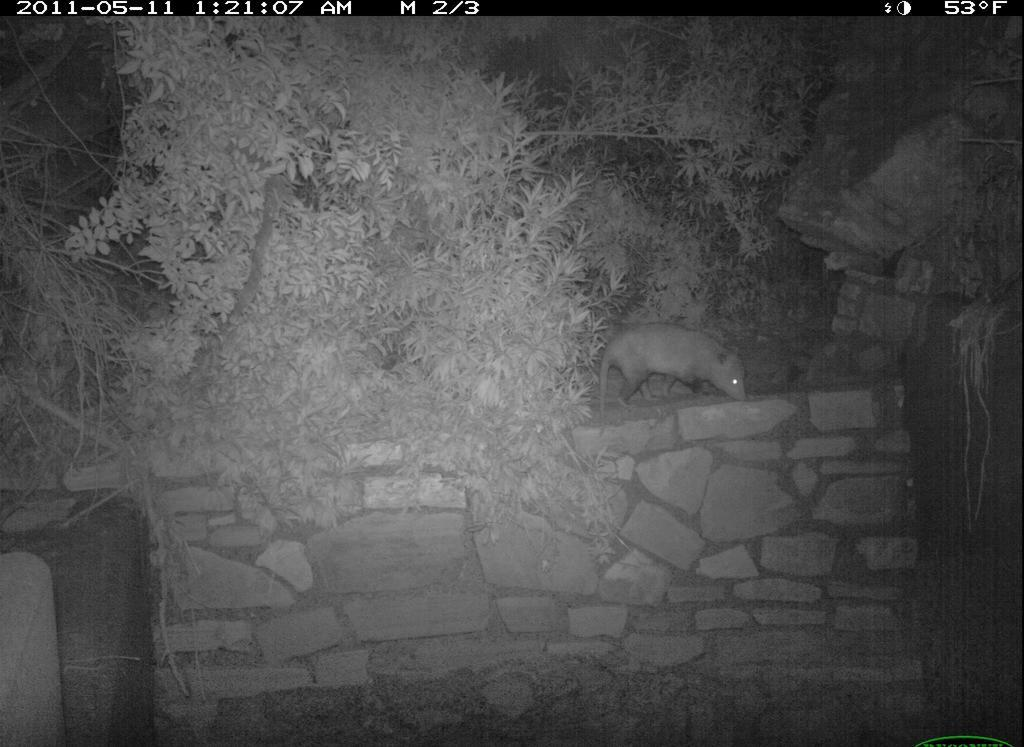opossum: (589, 321, 760, 422)
